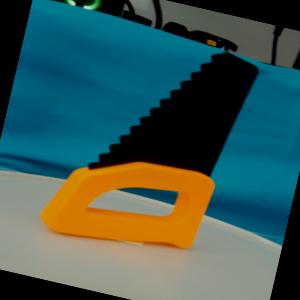serrote: (33, 18, 262, 268)
